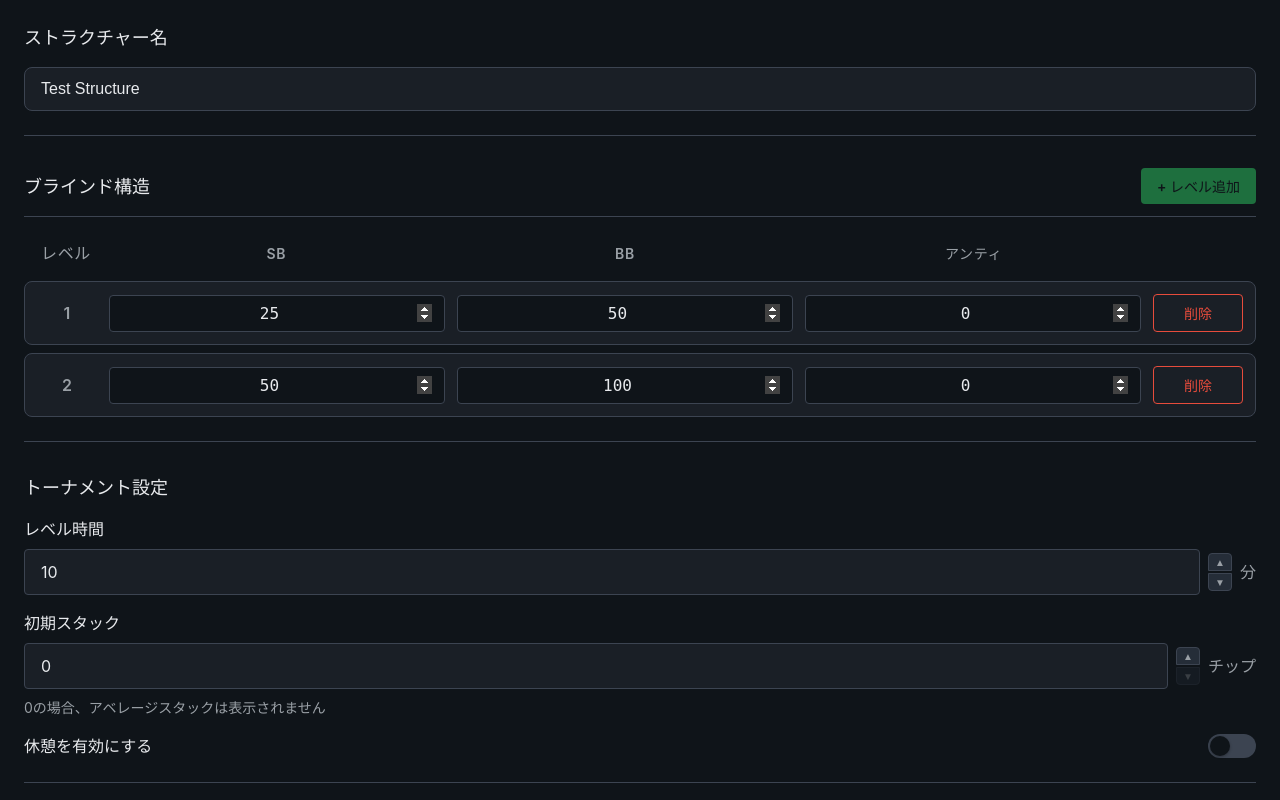
Test: StructureEditor › 初期スタックを変更できる
This screenshot has width=1280, height=800.
# NumberInputは2番目
Step 1. Click the button with test id "increment-button" next to "チップ" → (1188, 656), box top-left (1176, 647), bottom-right (1200, 665)
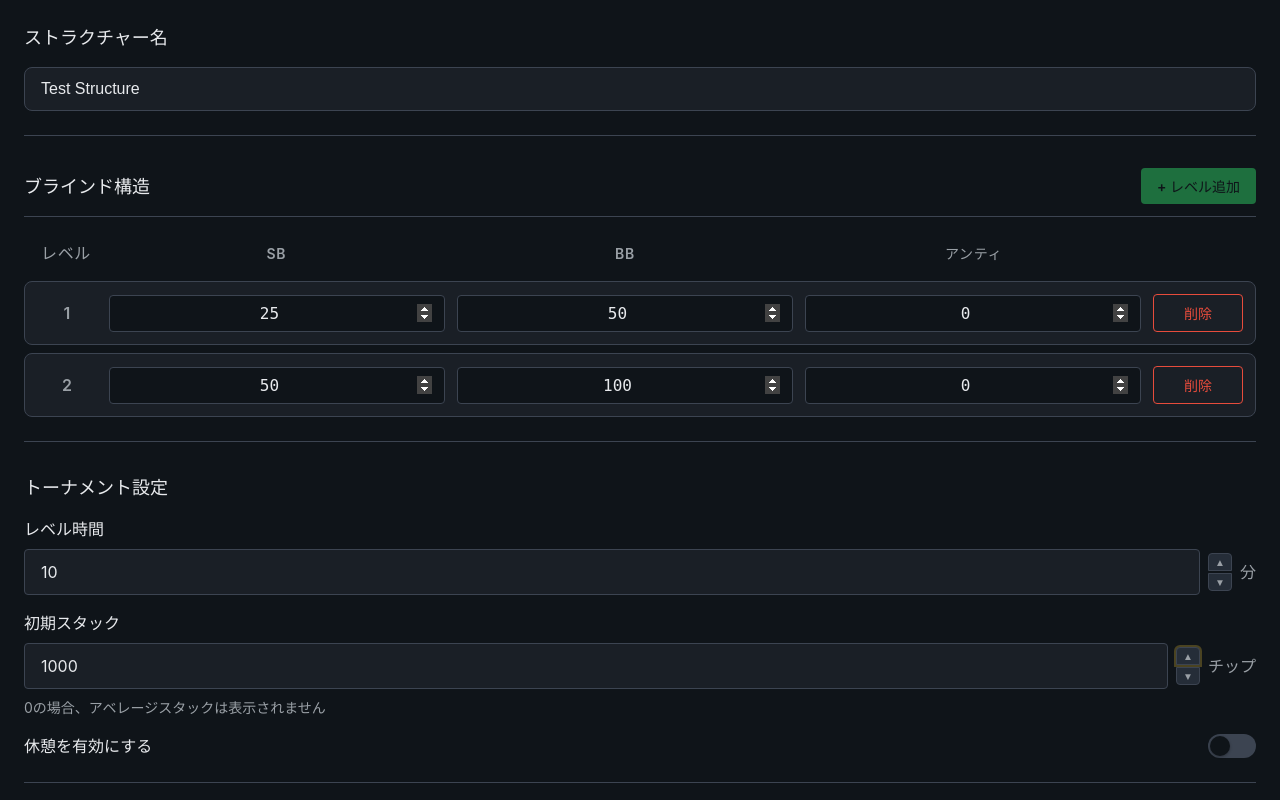
Check: the number field with test id "number-input" showing "初期スタック" holds "1000", box top-left (24, 643), bottom-right (1168, 689)
